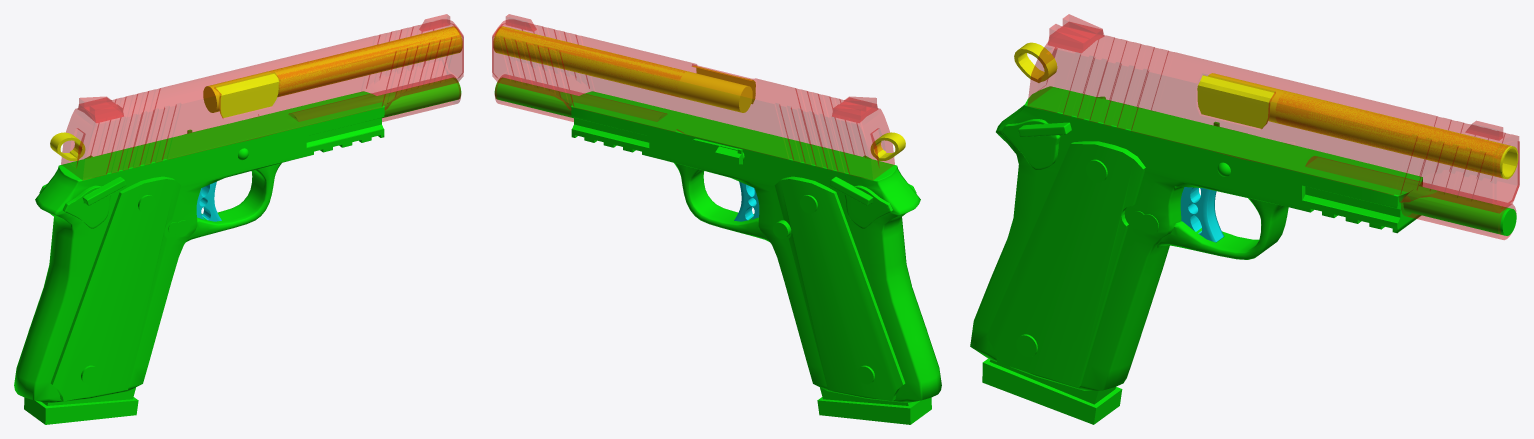
3 views of the same model, side by side, from view 1: azimuth 30°, elevation 25°; view 2: azimuth 150°, elevation 25°; view 3: azimuth 330°, elevation 25° (orthographic). The views are drawn at different scales.
Visible parts, largest first — view 1: pCube42, polySurface2, polySurface3, pCube23; view 2: pCube42, polySurface2, polySurface3, pCube23; view 3: pCube42, polySurface2, polySurface3, pCube23.
Part boxes in pixels (<box>): pCube42: <box>14,77,461,424</box>; polySurface2: <box>61,14,463,179</box>; polySurface3: <box>50,26,462,160</box>; pCube23: <box>196,181,221,221</box>; pCube42: <box>494,77,941,424</box>; polySurface2: <box>492,14,894,179</box>; polySurface3: <box>493,26,905,160</box>; pCube23: <box>734,181,759,221</box>; pCube42: <box>970,86,1516,424</box>; polySurface2: <box>1027,14,1519,239</box>; polySurface3: <box>1014,42,1518,179</box>; pCube23: <box>1180,187,1224,242</box>.
Size of the model in its own units: 476 by 325 by 63.81.
